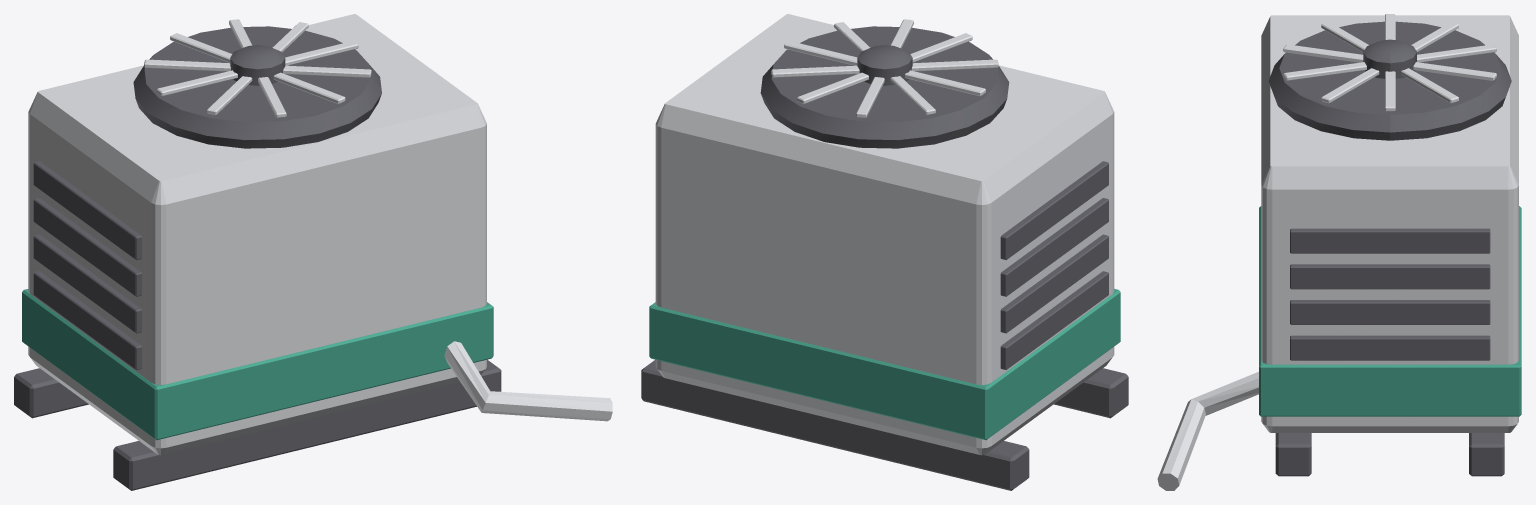
The model's file is petrol-station-and-forecourt-shop-roof-plant-unit-e72a63c5__33962.glb.
3 renders of one model, left to right at view 1: azimuth 30°, elevation 25°; view 2: azimuth 150°, elevation 25°; view 3: azimuth 270°, elevation 25°, orthographic. The views are drawn at different scales.
Visible parts, largest first — view 1: roof-plant-unit; view 2: roof-plant-unit; view 3: roof-plant-unit.
Boxes of the visible parts, x1,y1,x2,y2 form: roof-plant-unit: (14, 14, 612, 490); roof-plant-unit: (641, 14, 1128, 490); roof-plant-unit: (1157, 14, 1521, 490).
Size of the model in its own units: 1.34 by 1.06 by 1.02.
